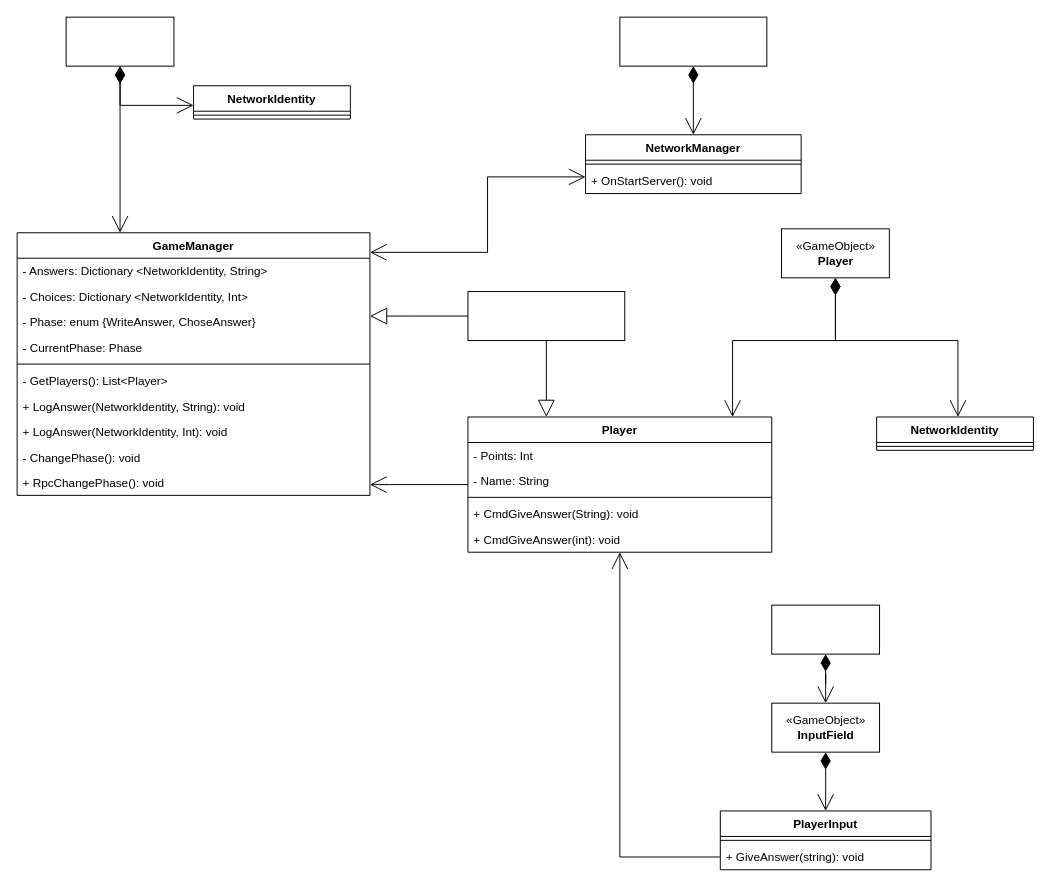
Image size: 1051x891. Some labels were removed from this diagram. The shapes that lost their labels are listed below. From the top down, each one's centre as x and y in pixels, then its label:
the point at 119,41: «GameObject» GameManager
the point at 693,41: «GameObject» NetworkManager
the point at 546,316: «interface» NetworkBehaviour
the point at 825,629: «GameObject» AnswerCanvas
